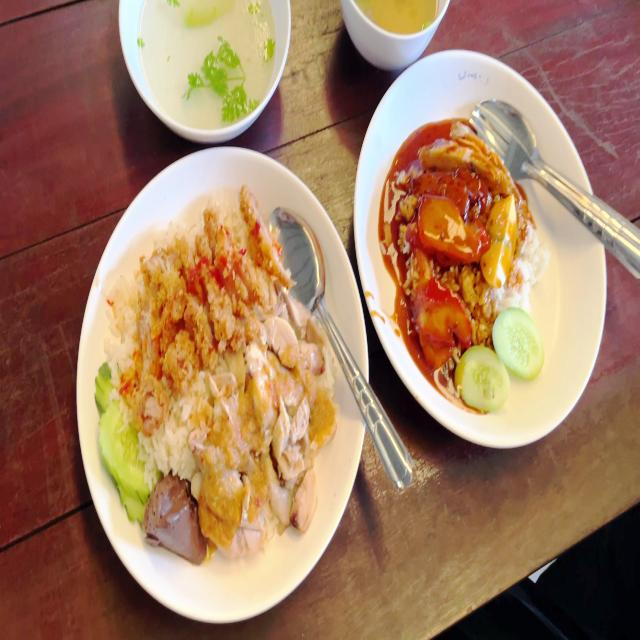boiled_chicken: (205, 311, 336, 544)
boiled_chicken_blood_jelly: (144, 471, 208, 564)
boiled_egg: (483, 190, 519, 288)
chainese_sausage: (417, 160, 492, 216)
chicken_rice: (98, 184, 342, 562)
crispy_pork: (416, 128, 517, 192)
cucumber: (93, 362, 149, 524), (491, 306, 546, 382), (458, 347, 510, 416)
fried_chicken: (126, 184, 294, 422)
red_pork: (416, 191, 493, 263), (411, 278, 470, 362)
red_pork_and_crispy_pork: (396, 123, 553, 414)
